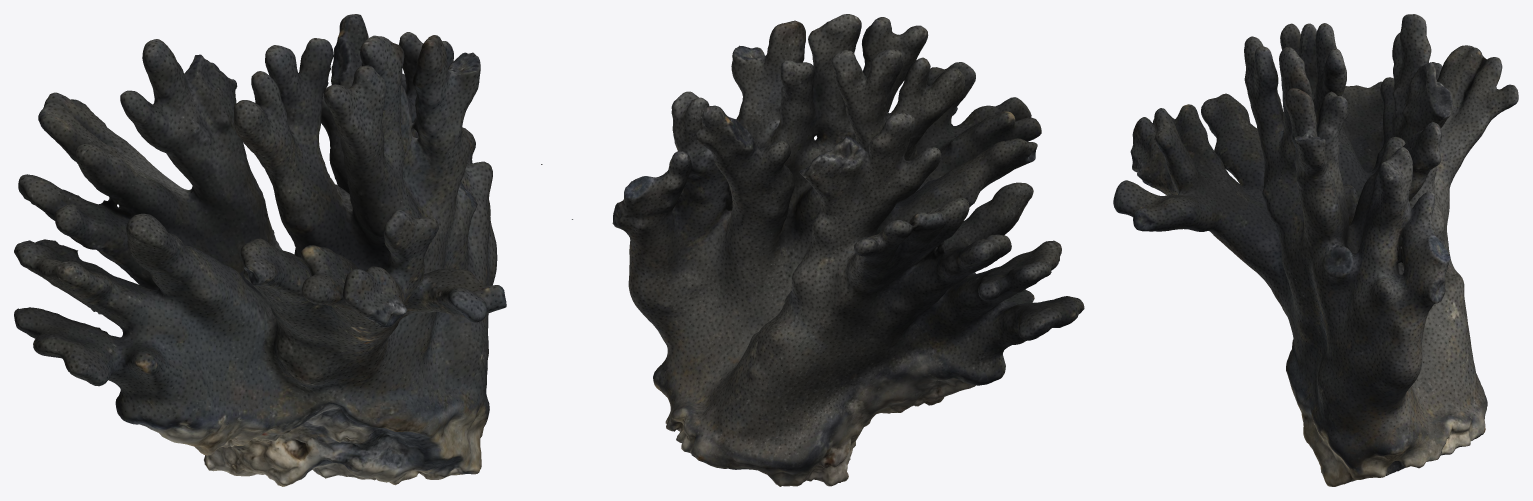
File: coral2.glb
3 renders of one model, left to right at view 1: azimuth 30°, elevation 25°; view 2: azimuth 150°, elevation 25°; view 3: azimuth 270°, elevation 25°, orthographic. The views are drawn at different scales.
Size of the model in its own units: 0.1653 by 0.1395 by 0.131.
Materials: 1 (1 with a texture image).
